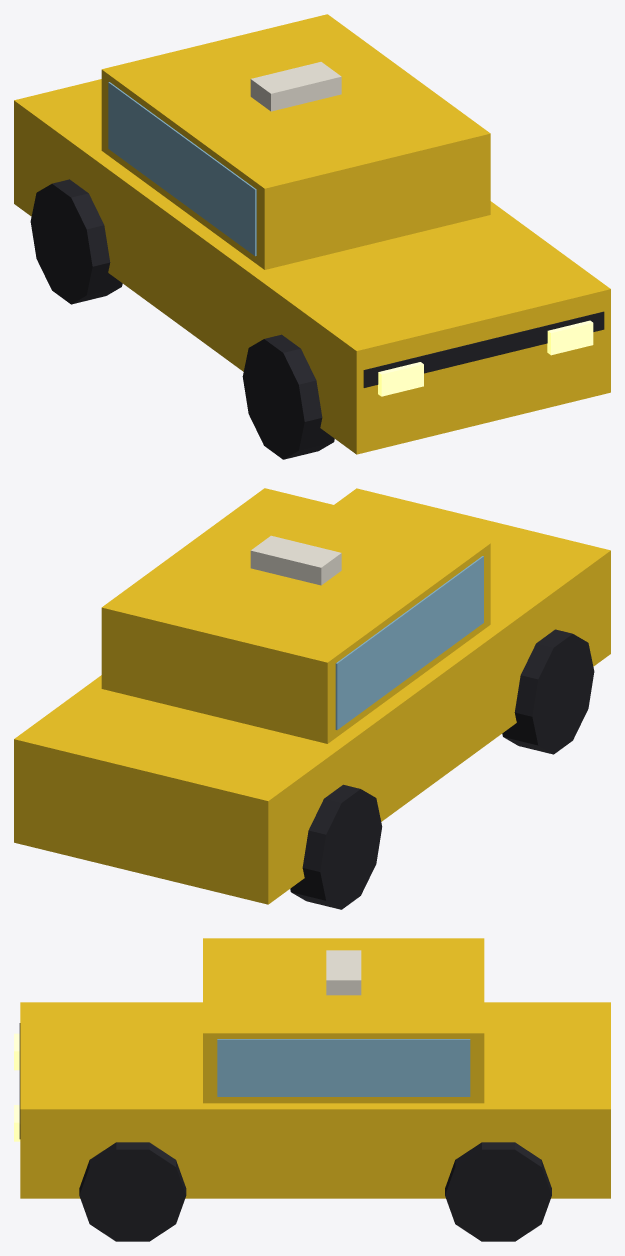
File: taxi.glb
3 renders of one model, top to bottom at view 1: azimuth 30°, elevation 25°; view 2: azimuth 150°, elevation 25°; view 3: azimuth 270°, elevation 25°, orthographic. The views are drawn at different scales.
Parts seen in each view (by area): view 1: taxi; view 2: taxi; view 3: taxi.
Part boxes in pixels (bbox=[...]): taxi: bbox=[14, 14, 610, 459]; taxi: bbox=[14, 488, 610, 909]; taxi: bbox=[14, 938, 610, 1241].
Bounding box in the file's own units: 2.05 × 1.69 × 4.24.
